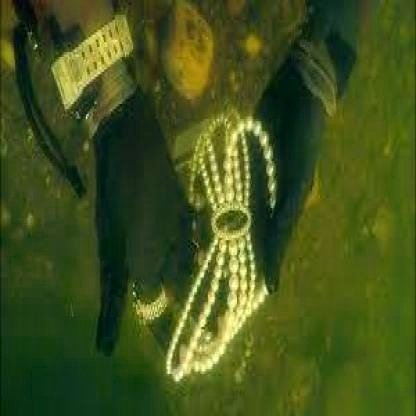misc: (168, 111, 274, 382)
